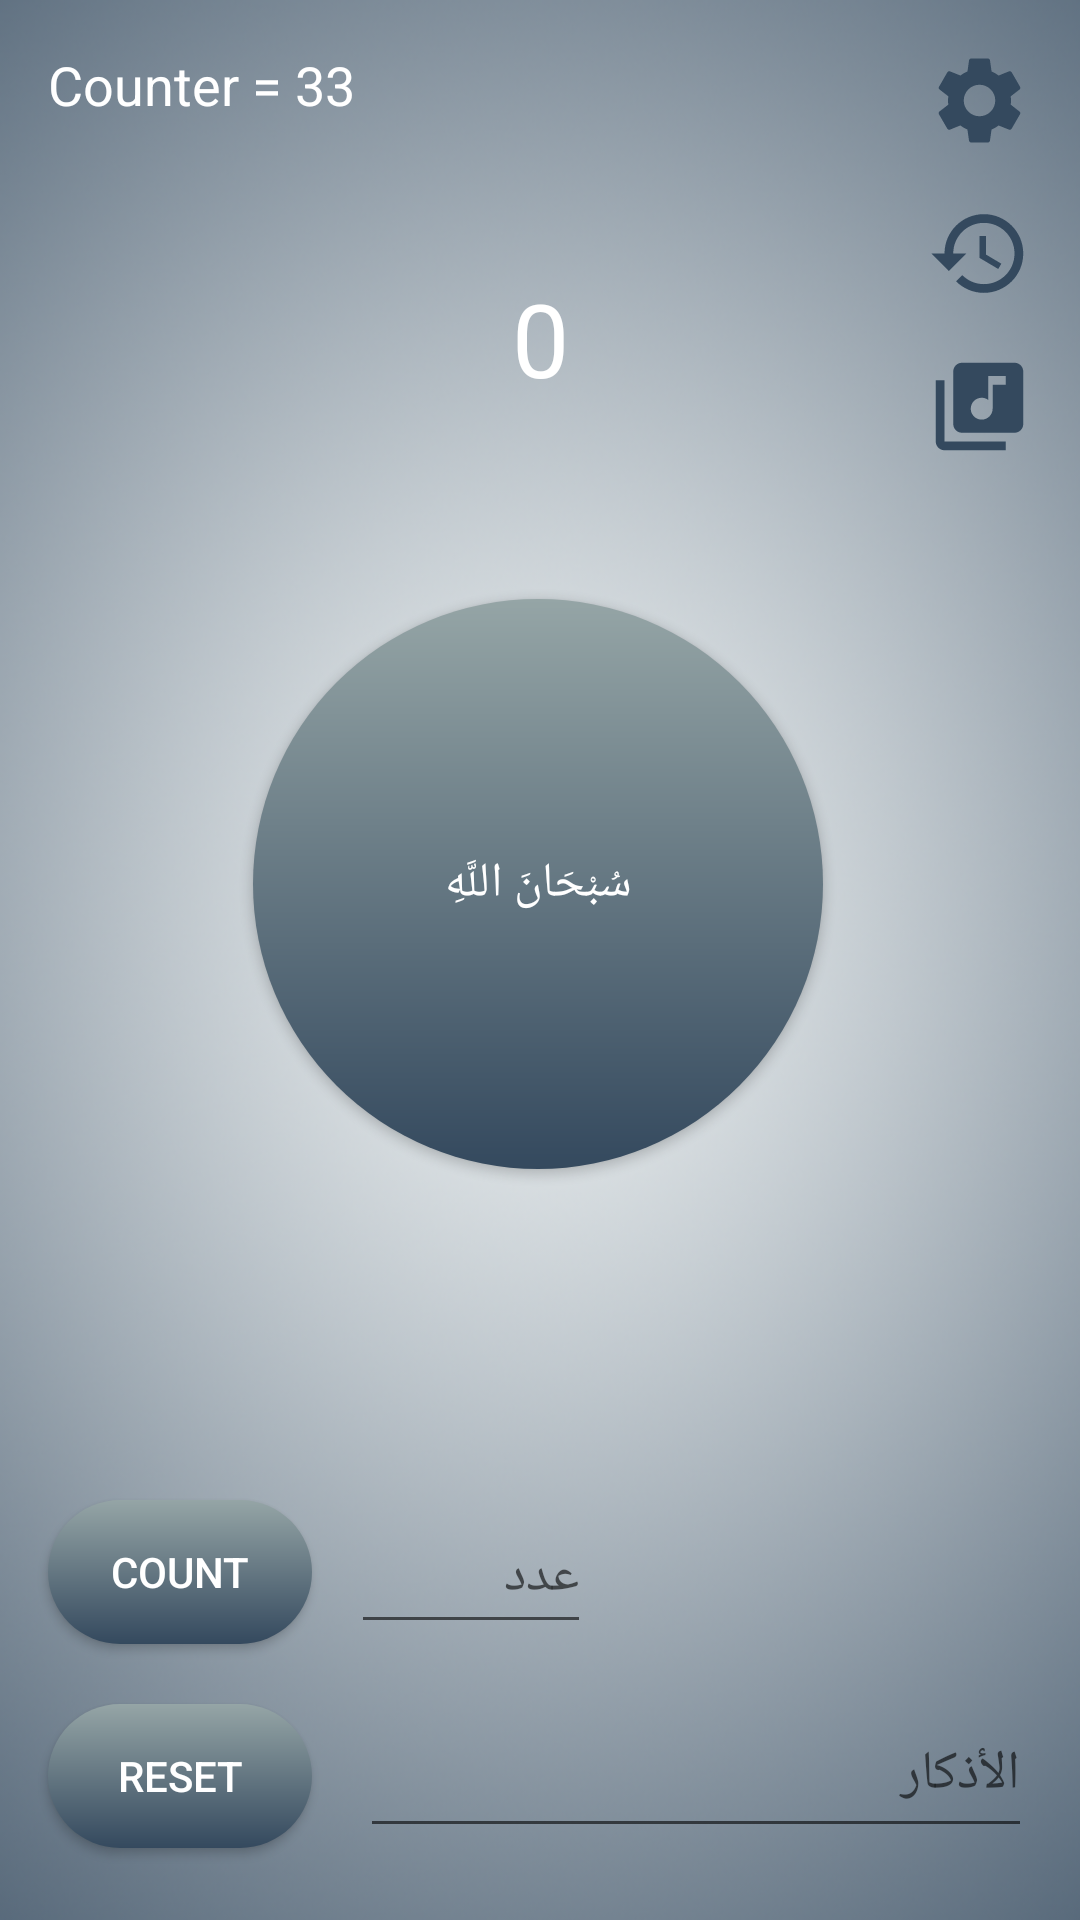

Where icons sit on this 1080x1920 app screen, as (x1, y1, x2, y2):
history: (932, 214, 1024, 293)
library music: (936, 363, 1023, 450)
settings: (939, 58, 1020, 143)
